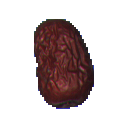gd: (19, 15, 110, 120)
